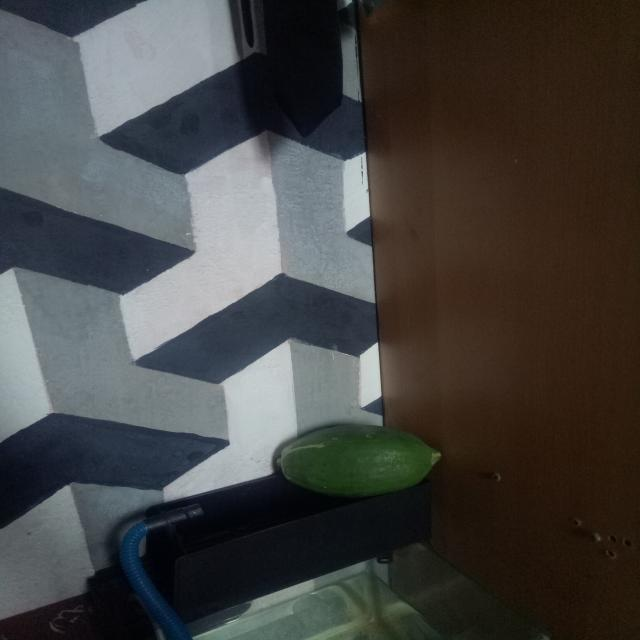Pepaya unrippen: (260, 419, 448, 490)
